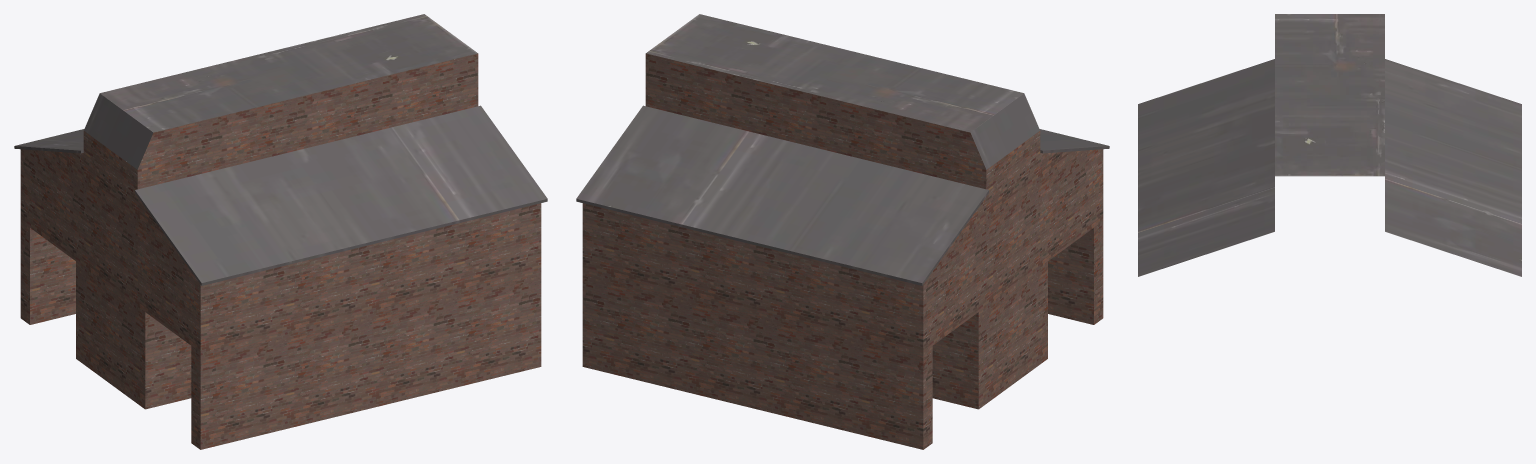
3 renders of one model, left to right at view 1: azimuth 30°, elevation 25°; view 2: azimuth 150°, elevation 25°; view 3: azimuth 270°, elevation 25°, orthographic. The views are drawn at different scales.
Parts seen in each view (by area): view 1: body0_model0_lod0_mesh1, body0_model0_lod0_mesh0; view 2: body0_model0_lod0_mesh1, body0_model0_lod0_mesh0; view 3: body0_model0_lod0_mesh0.
Part boxes in pixels (<box>): body0_model0_lod0_mesh1: <box>20,53,541,449</box>; body0_model0_lod0_mesh0: <box>14,14,547,285</box>; body0_model0_lod0_mesh1: <box>582,53,1103,449</box>; body0_model0_lod0_mesh0: <box>576,14,1109,285</box>; body0_model0_lod0_mesh0: <box>1138,14,1521,276</box>.
Size of the model in its own units: 65 by 48 by 61.
3 materials, 2 textured.
